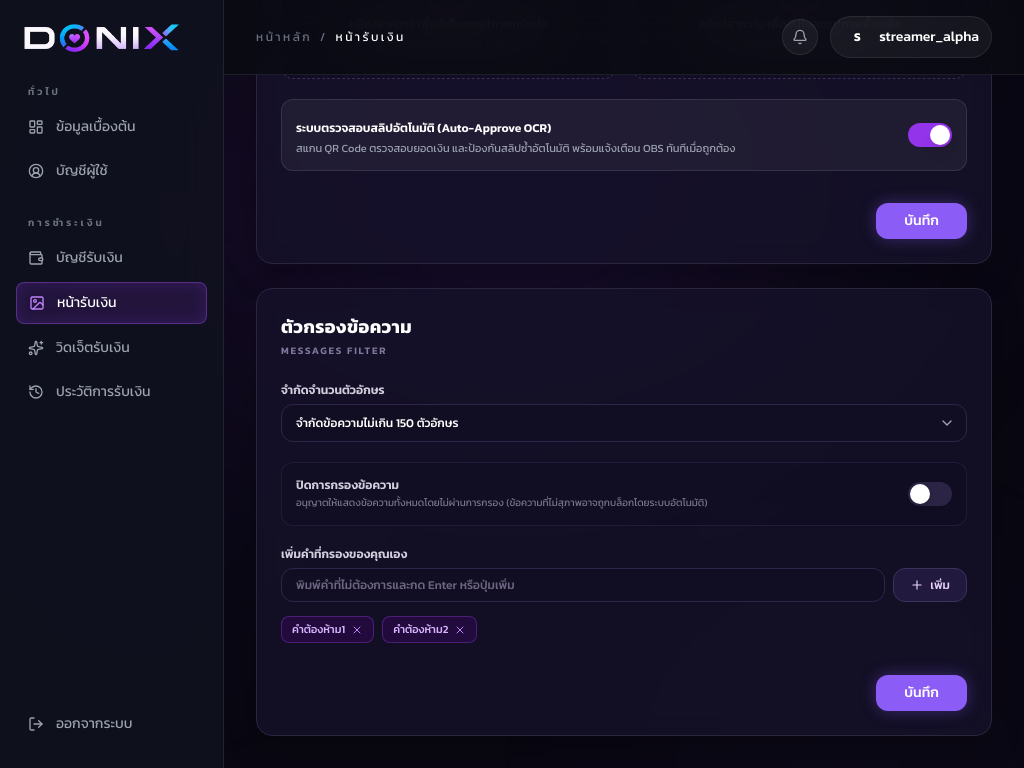
Test case: DonatePage Integration › handles error when saving MessageFilterSection fails
This screenshot has width=1024, height=768.
(page scrolled)
What coordinates should you click on to do the following:
click the 2nd button "บันทึก"
I would click on:
 (922, 693)
Its box is [876,675,967,711].
(page scrolled)
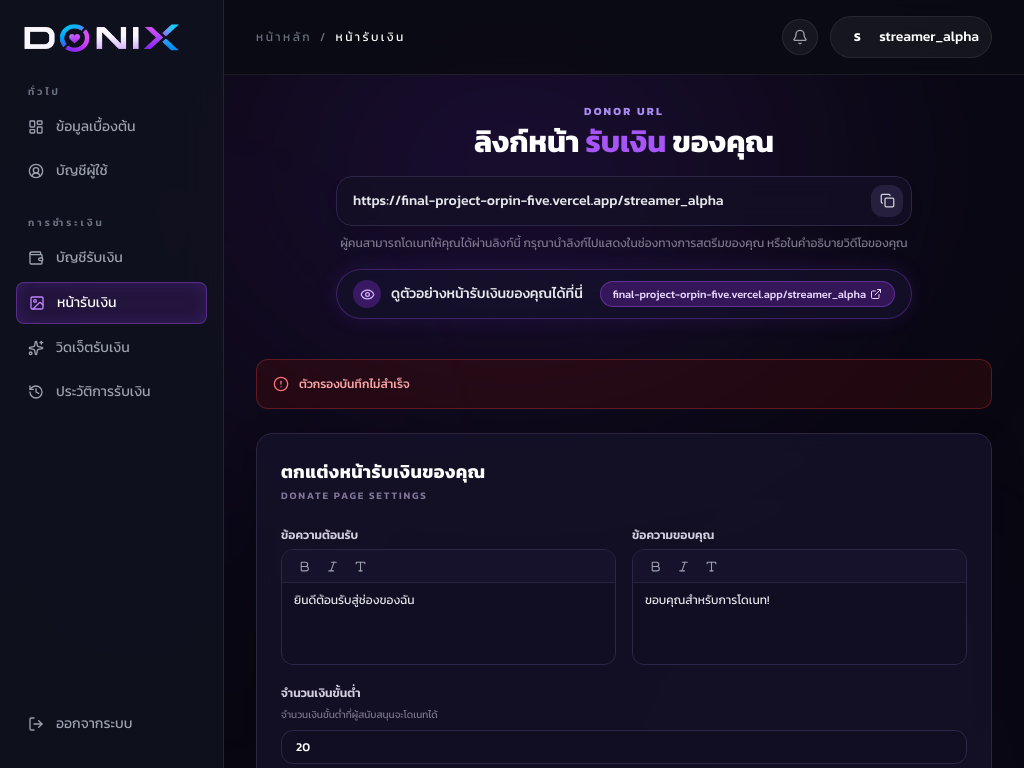
Expected: the text "ตัวกรองบันทึกไม่สำเร็จ" is shown, [299,376,410,392]
